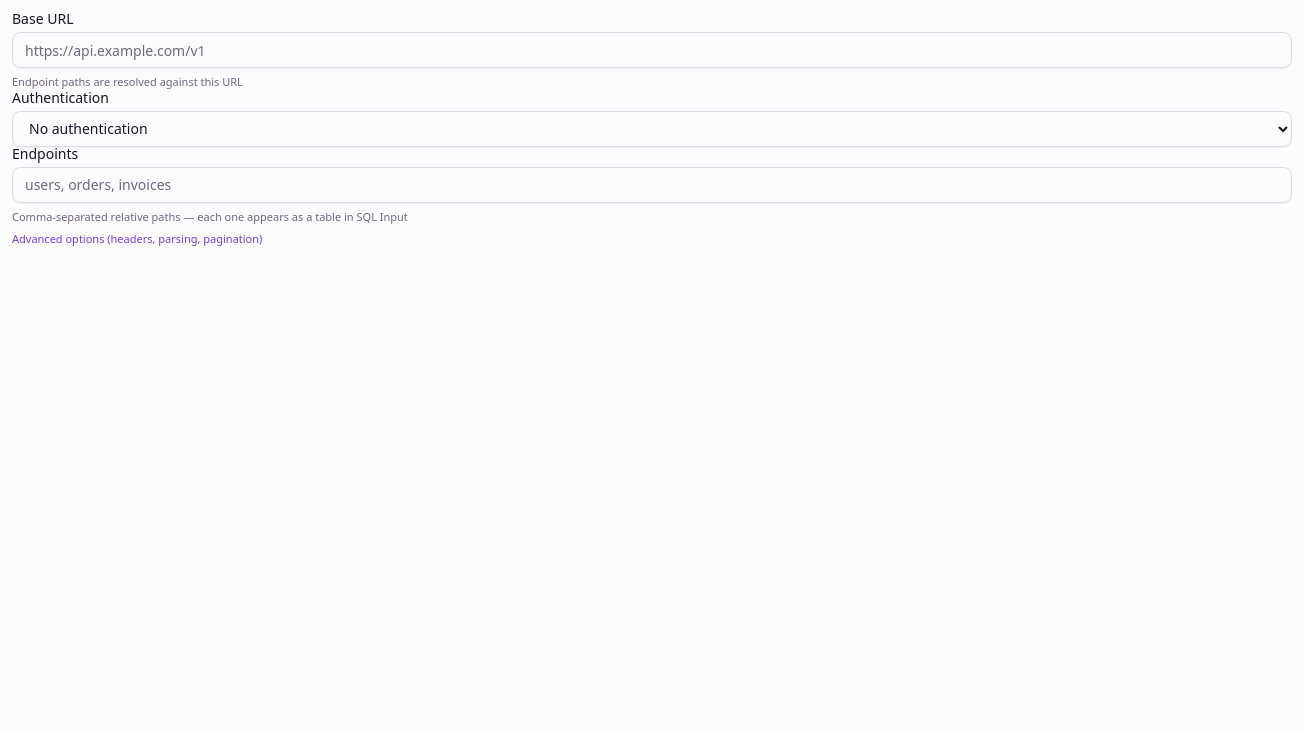
it: ApiFields › keeps advanced options collapsed until the toggle is clicked
Expected: the text "Custom headers" is not shown
Click the button "Advanced options (headers, parsing, pagination)": (137, 239) left=12, top=231, right=262, bottom=248
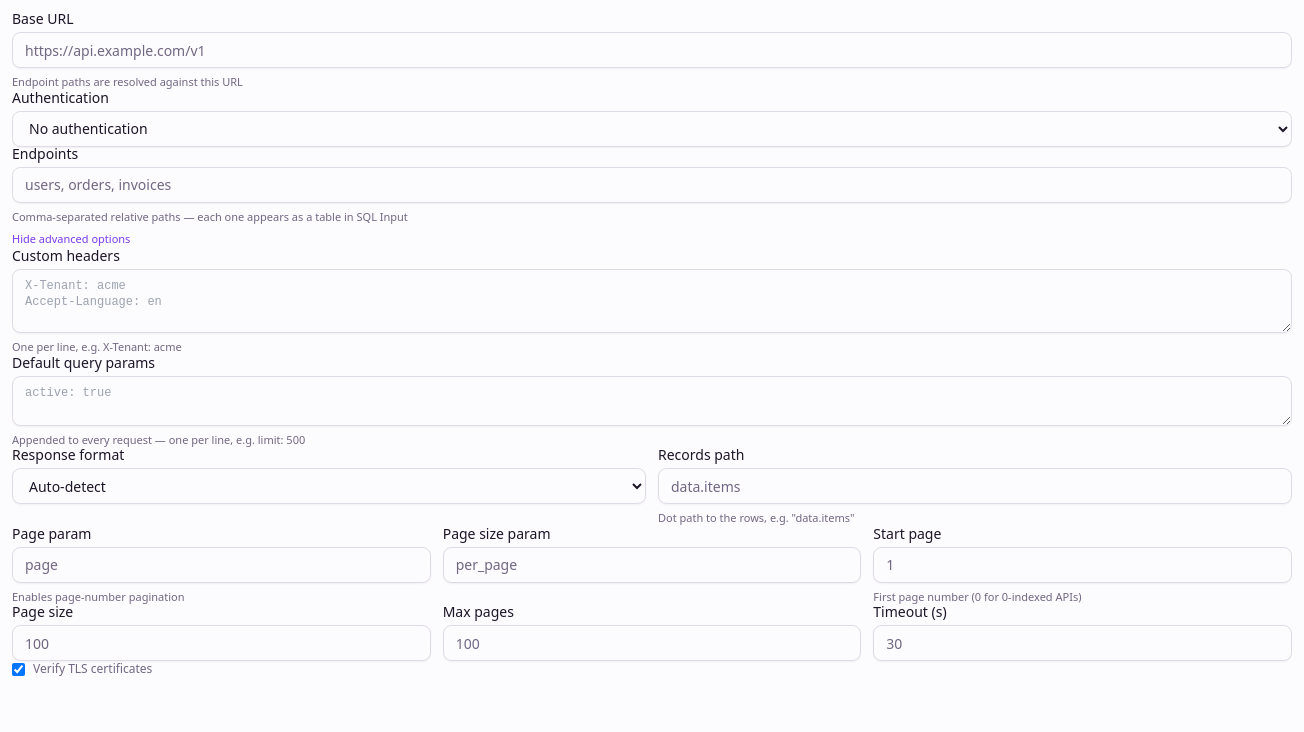
Now the text "Custom headers" is shown, box left=12, top=246, right=120, bottom=265
Click the button "Hide advanced options": (71, 239) left=12, top=231, right=130, bottom=248
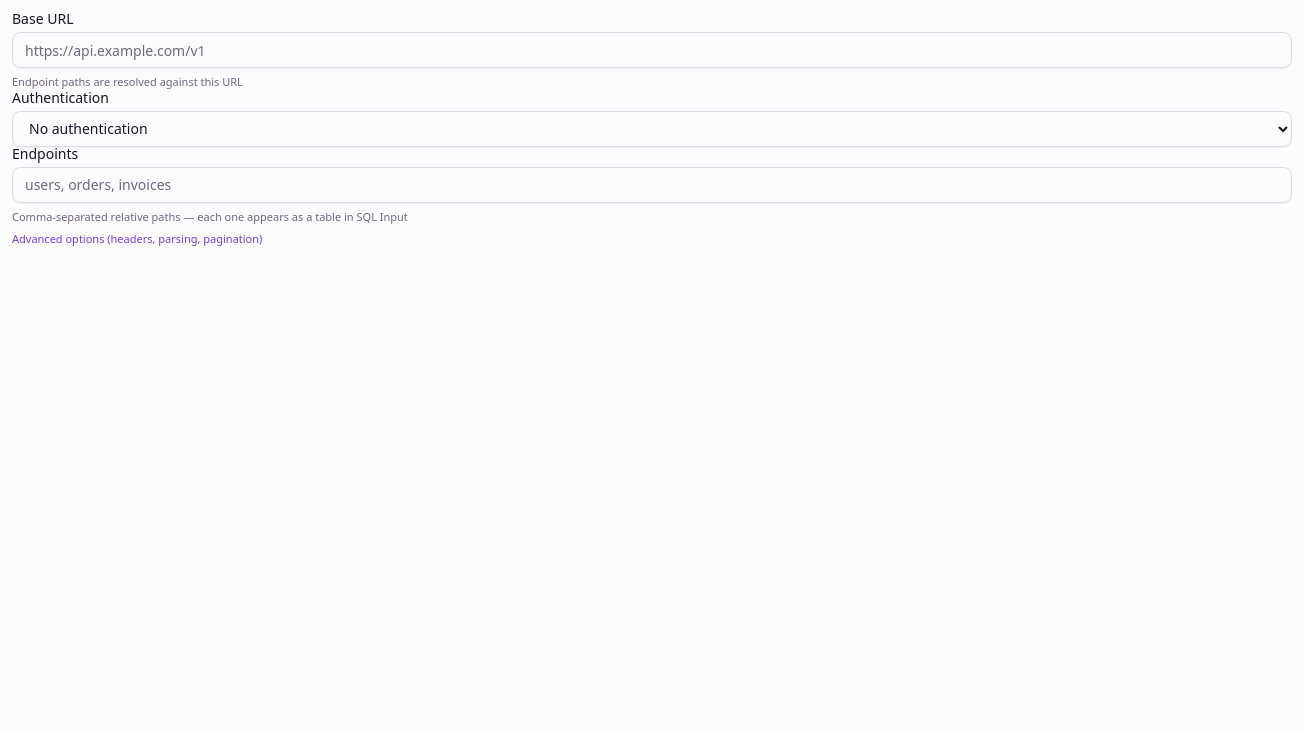
Now the text "Custom headers" is gone
